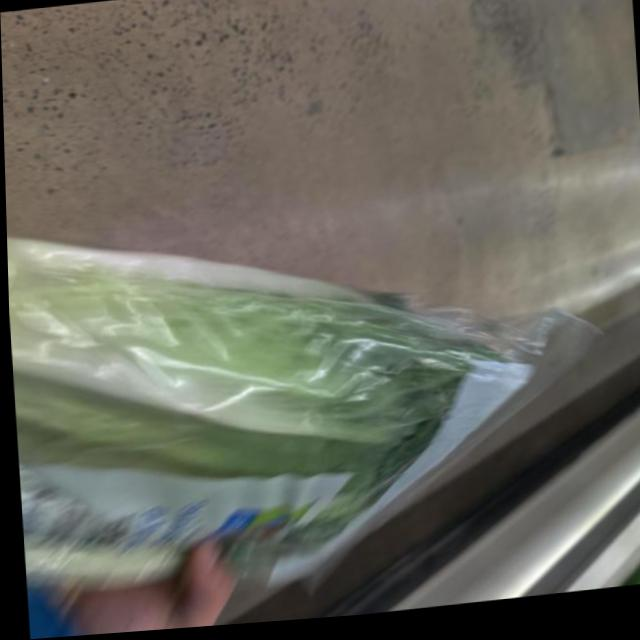Lettuce: (4, 146, 552, 640)
